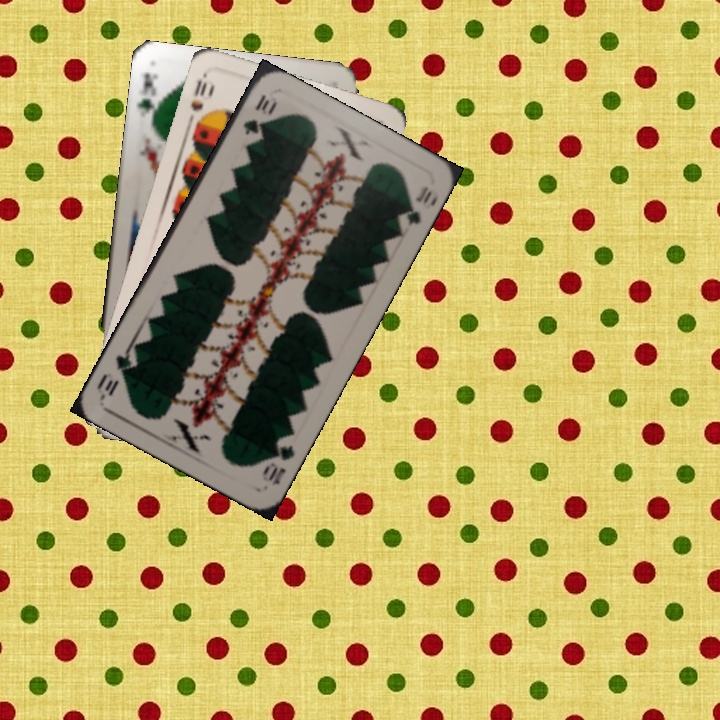G10: (258, 431, 298, 488), (239, 90, 278, 138)
GK: (133, 68, 161, 125)
S10: (183, 70, 210, 130)
